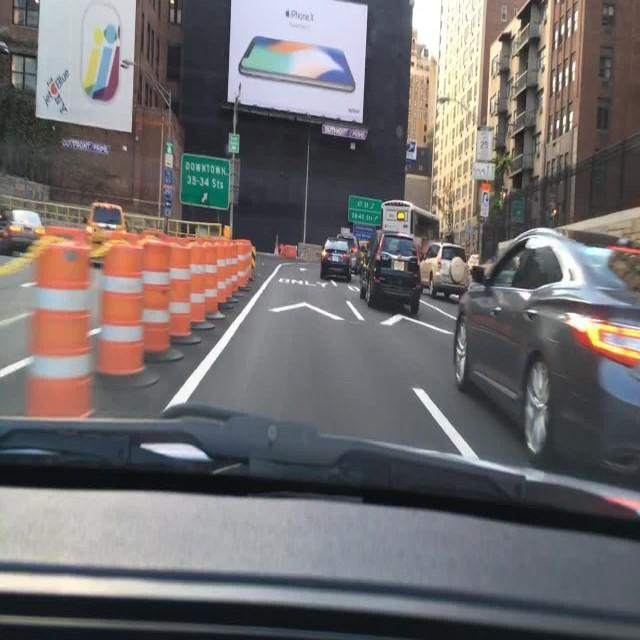normal: (452, 218, 640, 487), (355, 231, 423, 314), (418, 239, 468, 296), (320, 237, 366, 285), (0, 207, 43, 255)
